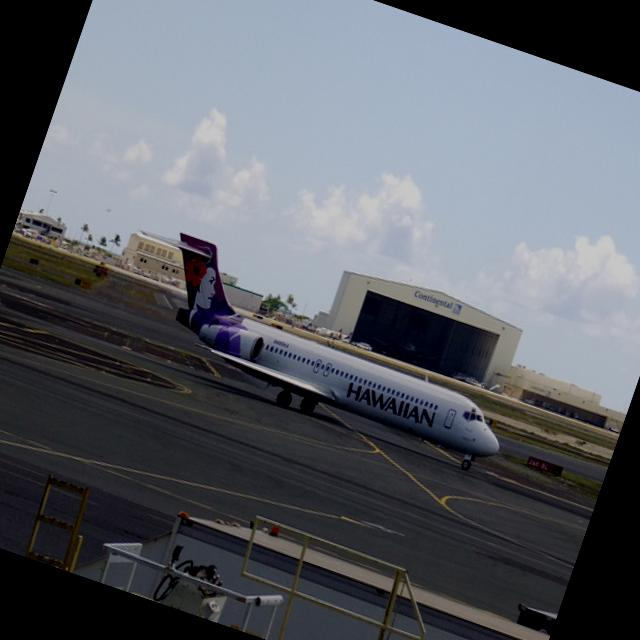Vehicle: (0, 436, 547, 640)
